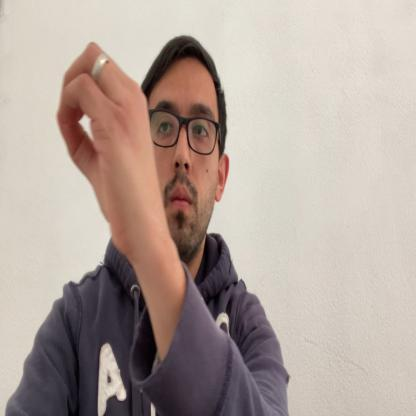O: (58, 40, 160, 255)
